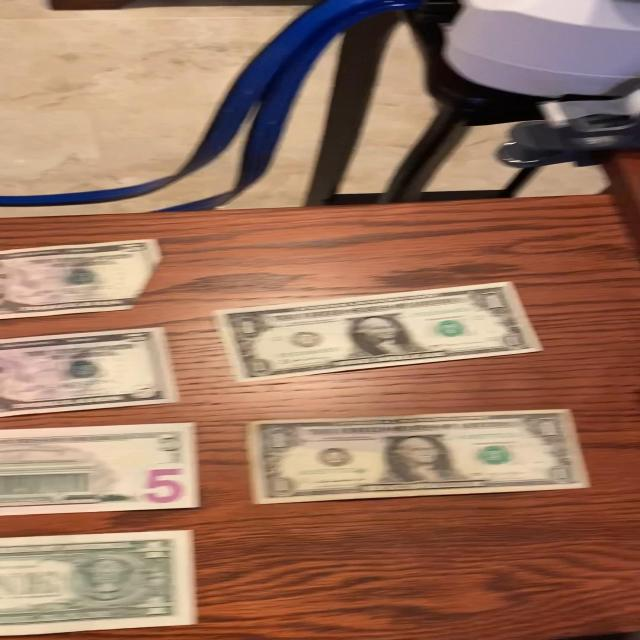1-Back: (1, 529, 208, 633)
1-Front: (212, 278, 548, 389), (242, 404, 592, 506)
5-Back: (0, 422, 205, 518)
5-Front: (1, 329, 184, 417), (0, 239, 170, 321)
